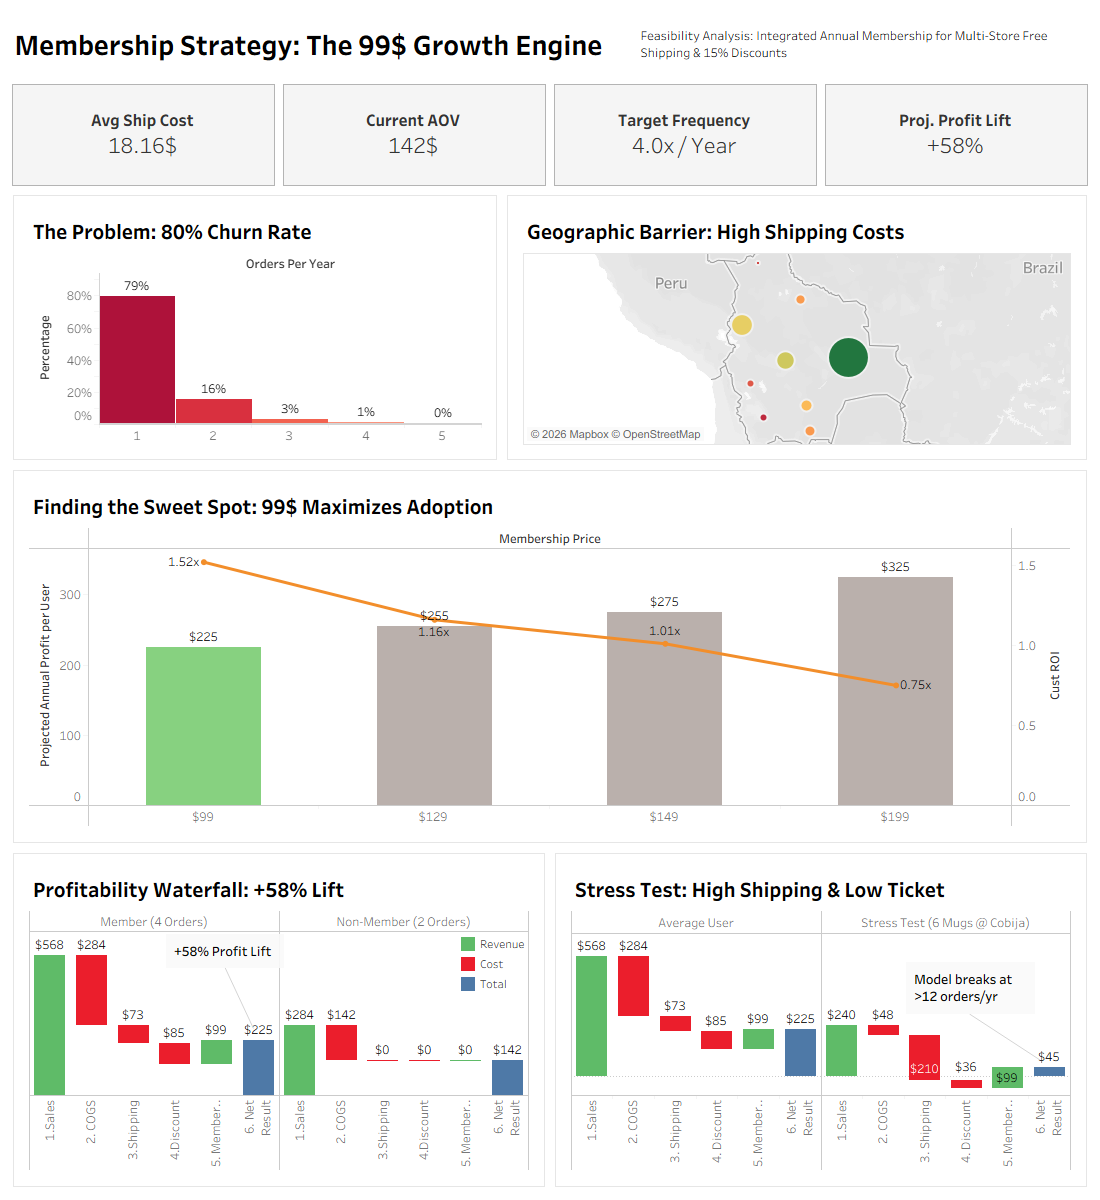

What the dashboard file says about the page in this screenshot:
{"tool":"tableau","page":{"name":"Dashboard 1","canvas":[1100,1200],"ordinal":0},"visuals":[{"type":"text","box":[8,8,626,71.7]},{"type":"text","box":[634,8,458,71.7]},{"type":"worksheet","title":"Shipping Cost","mark":"Text","box":[8,80,271,110]},{"type":"worksheet","title":"AOV","mark":"Text","box":[279,80,271,110]},{"type":"worksheet","title":"Frequency","mark":"Text","box":[550,80,271,110]},{"type":"worksheet","title":"Profit","mark":"Text","box":[821,80,271,110]},{"type":"worksheet","title":"The Problem","mark":"Bar","rows":["Percentage"],"cols":["Orders_Per_Year"],"box":[8,189.7,494,275.7]},{"type":"worksheet","title":"Geographic shipping","mark":"Automatic","box":[502,189.7,590,275.7]},{"type":"worksheet","title":"Finding the Sweet Spot","mark":"Automatic","rows":["Biz_Profit","Cust_ROI"],"cols":["Price_Point"],"box":[8,465.4,1084,382.6]},{"type":"worksheet","title":"Waterfall","mark":"GanttBar","cols":["Scenario","Component"],"box":[8,848,542,344]},{"type":"worksheet","title":"Stress Test","mark":"GanttBar","cols":["Scenario","Component"],"box":[550,848,542,344]},{"type":"legend","title":"Waterfall","param":"[federated.10wtowo15gi8iu17p53rt11yhwyz].[none:Type:nk]","box":[458,934,148,122]}]}

Visuals, with their boxes in screenshot pixels (x1, y1, x2, y2), scaled from the page's 1100x1200 canvas onto the 1100x1200 screenshot:
text: [x1=8, y1=8, x2=634, y2=80]
text: [x1=634, y1=8, x2=1092, y2=80]
"Shipping Cost" worksheet (Text marks): [x1=8, y1=80, x2=279, y2=190]
"AOV" worksheet (Text marks): [x1=279, y1=80, x2=550, y2=190]
"Frequency" worksheet (Text marks): [x1=550, y1=80, x2=821, y2=190]
"Profit" worksheet (Text marks): [x1=821, y1=80, x2=1092, y2=190]
"The Problem" worksheet (Bar marks): [x1=8, y1=190, x2=502, y2=465]
"Geographic shipping" worksheet: [x1=502, y1=190, x2=1092, y2=465]
"Finding the Sweet Spot" worksheet: [x1=8, y1=465, x2=1092, y2=848]
"Waterfall" worksheet (GanttBar marks): [x1=8, y1=848, x2=550, y2=1192]
"Stress Test" worksheet (GanttBar marks): [x1=550, y1=848, x2=1092, y2=1192]
"Waterfall" legend: [x1=458, y1=934, x2=606, y2=1056]
